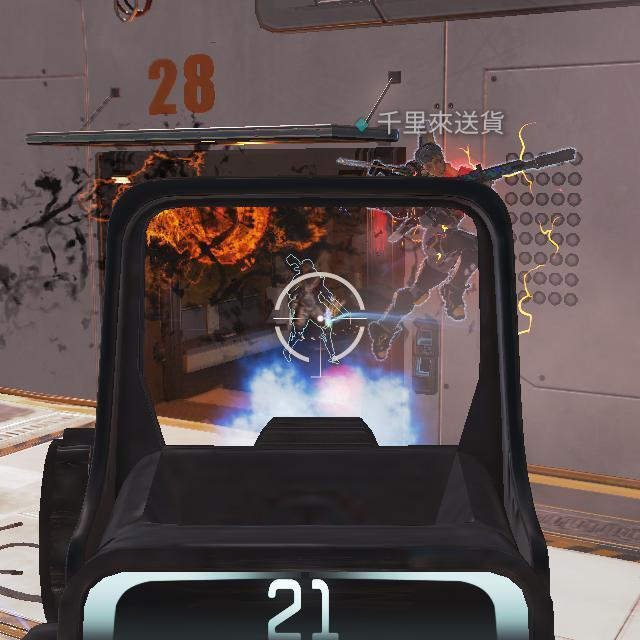avatar: (413, 141, 482, 324), (281, 254, 342, 368)
